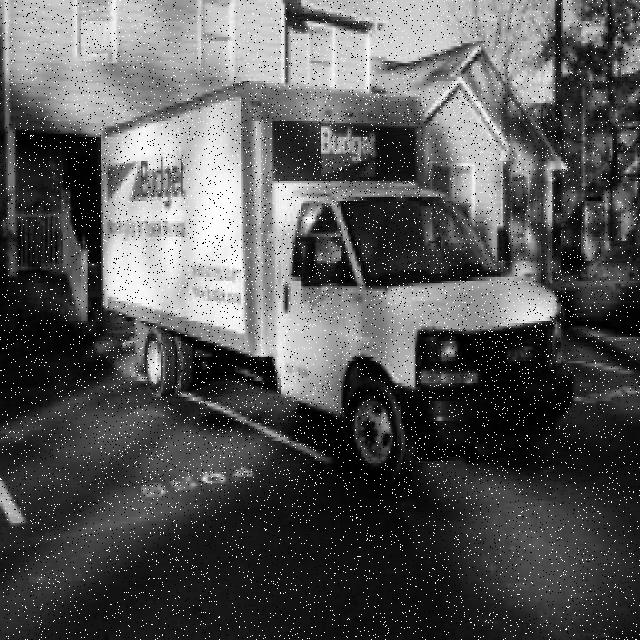Box Truck: (99, 82, 575, 487)
